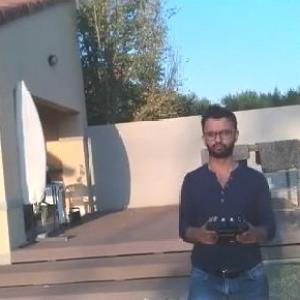follow: (169, 97, 280, 299)
